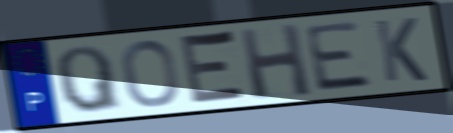E: (178, 28, 250, 108), (301, 18, 375, 94)
H: (236, 21, 315, 101)
K: (372, 15, 430, 84)
O: (119, 38, 181, 109)
Q: (53, 44, 125, 115)
